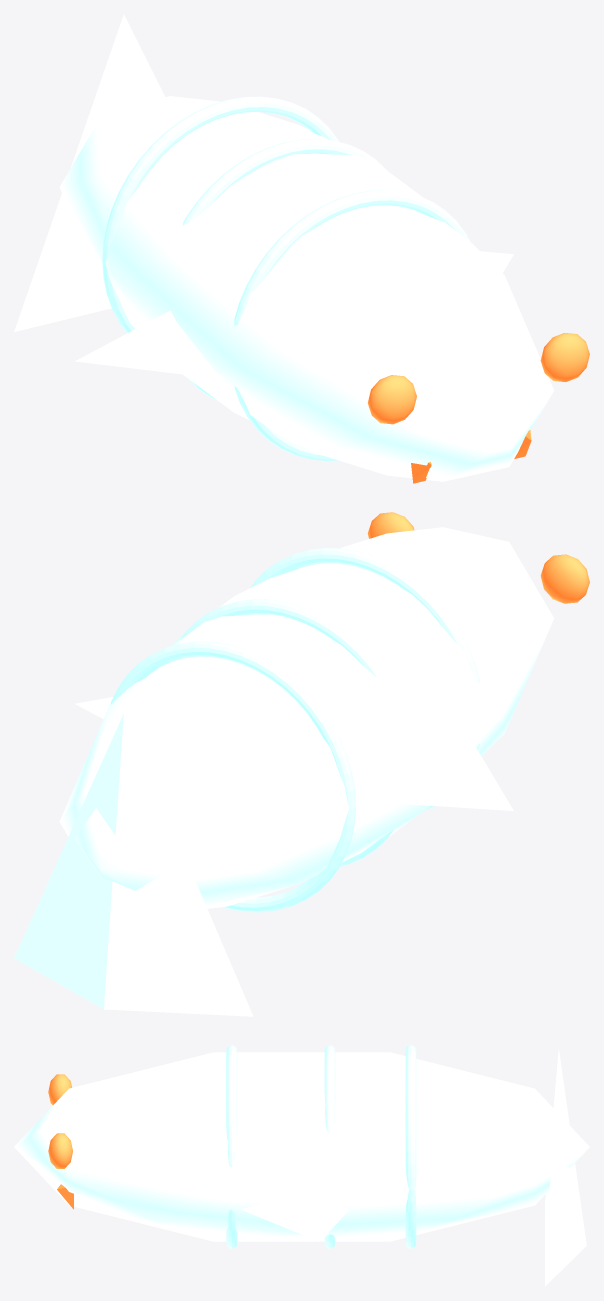
The model's file is glassjaw.glb.
The picture shows the model from 3 angles, top to bottom: view 1: azimuth 30°, elevation 25°; view 2: azimuth 150°, elevation 25°; view 3: azimuth 270°, elevation 25°; orthographic projection. The views are drawn at different scales.
Visible parts, largest first — view 1: body, swim-tail, biolight-ring.002, biolight-ring, swim-fin--1, biolight-ring.001, eye-1, eye--1; view 2: body, swim-tail, biolight-ring.002, swim-fin--1, biolight-ring, biolight-ring.001, eye--1, eye-1; view 3: body, swim-tail, swim-fin-1, biolight-ring.002, biolight-ring, biolight-ring.001, eye-1, eye--1.
Part boxes in pixels (x1,y1,x2,y2): body: (59,96,553,481); swim-tail: (14,14,164,331); biolight-ring.002: (102,96,339,333); biolight-ring: (234,190,470,460); swim-fin--1: (75,310,225,379); biolight-ring.001: (183,138,387,400); eye-1: (540,333,589,381); eye--1: (368,375,416,424); body: (59,527,553,908); swim-tail: (14,713,253,1016); biolight-ring.002: (110,641,355,912); swim-fin--1: (400,746,513,810); biolight-ring: (250,548,479,810); biolight-ring.001: (179,599,393,866); eye--1: (540,554,589,603); eye-1: (367,512,414,538); body: (14,1052,589,1241); swim-tail: (545,1049,586,1286); swim-fin-1: (240,1188,349,1241); biolight-ring.002: (405,1045,416,1248); biolight-ring: (226,1045,237,1248); biolight-ring.001: (324,1045,335,1248); eye-1: (48,1133,72,1168); eye--1: (48,1074,71,1104).
Bounding box in the file's own units: 2.29 × 1.4 × 3.7.
